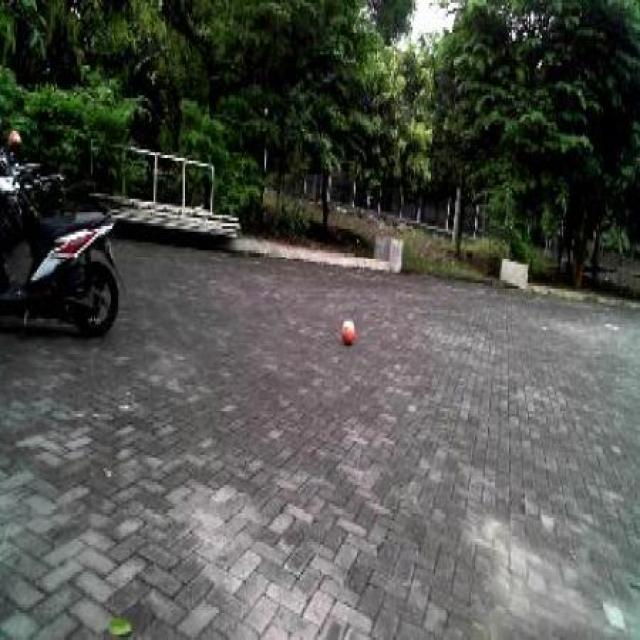buoy: (338, 305, 360, 351)
